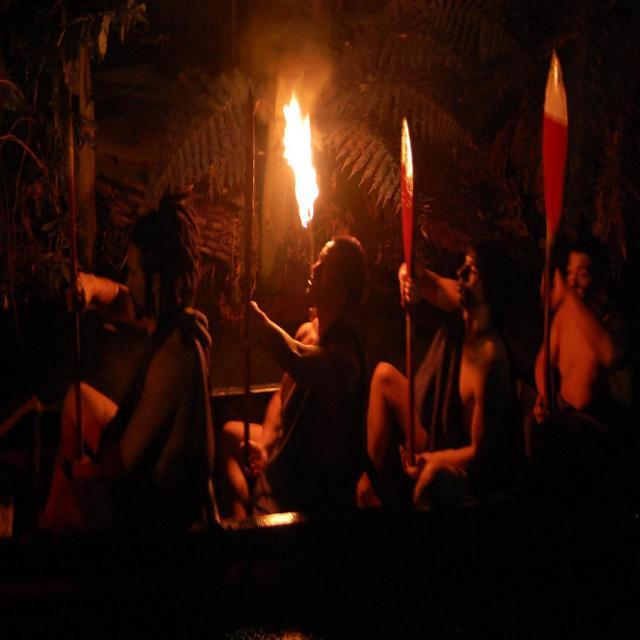Fire: (281, 95, 325, 213)
